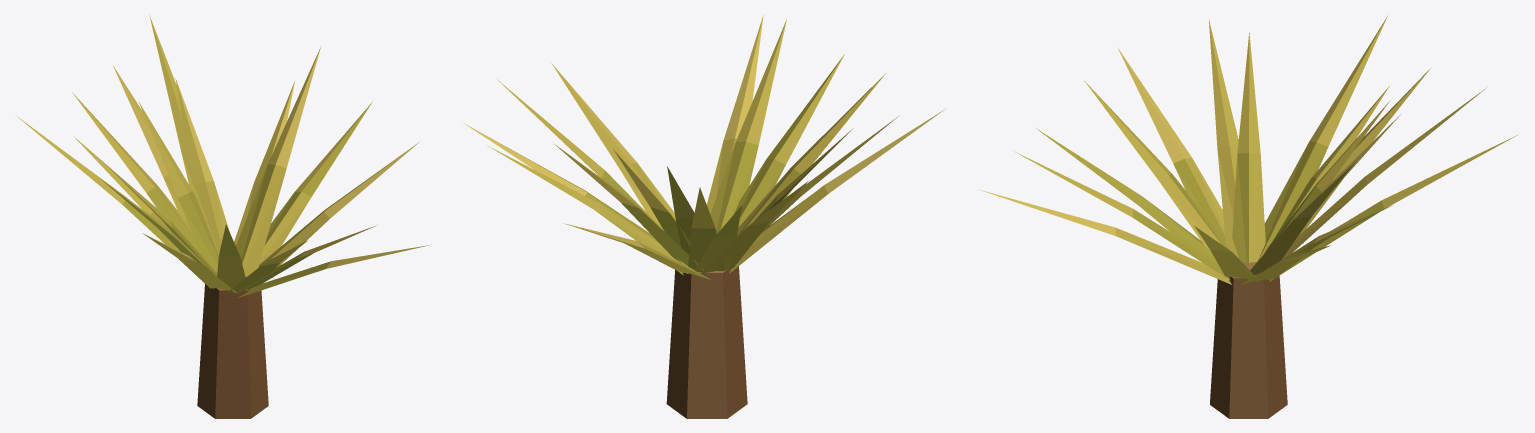
Rendered from SM_YUCCA_PLANT_01.fbx.
The picture shows the model from 3 angles, left to right: view 1: azimuth 30°, elevation 25°; view 2: azimuth 150°, elevation 25°; view 3: azimuth 270°, elevation 25°; orthographic projection. The views are drawn at different scales.
Visible parts, largest first — view 1: YUCCA_PLANT_01; view 2: YUCCA_PLANT_01; view 3: YUCCA_PLANT_01.
Part boxes in pixels (box(x1,y1,x2,y2)): YUCCA_PLANT_01: box(17, 15, 429, 418); YUCCA_PLANT_01: box(462, 15, 946, 418); YUCCA_PLANT_01: box(979, 16, 1518, 418).
Bounding box in the file's own units: 0.9704 × 1.26 × 0.8476.
